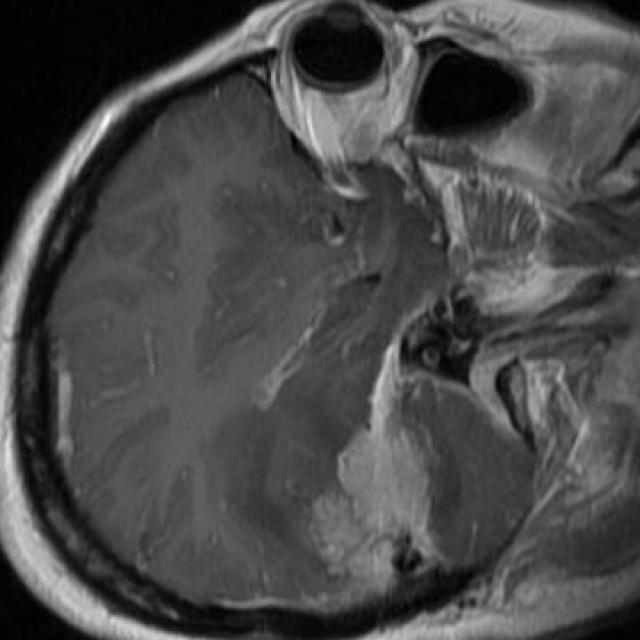meningioma: (314, 341, 440, 590)
